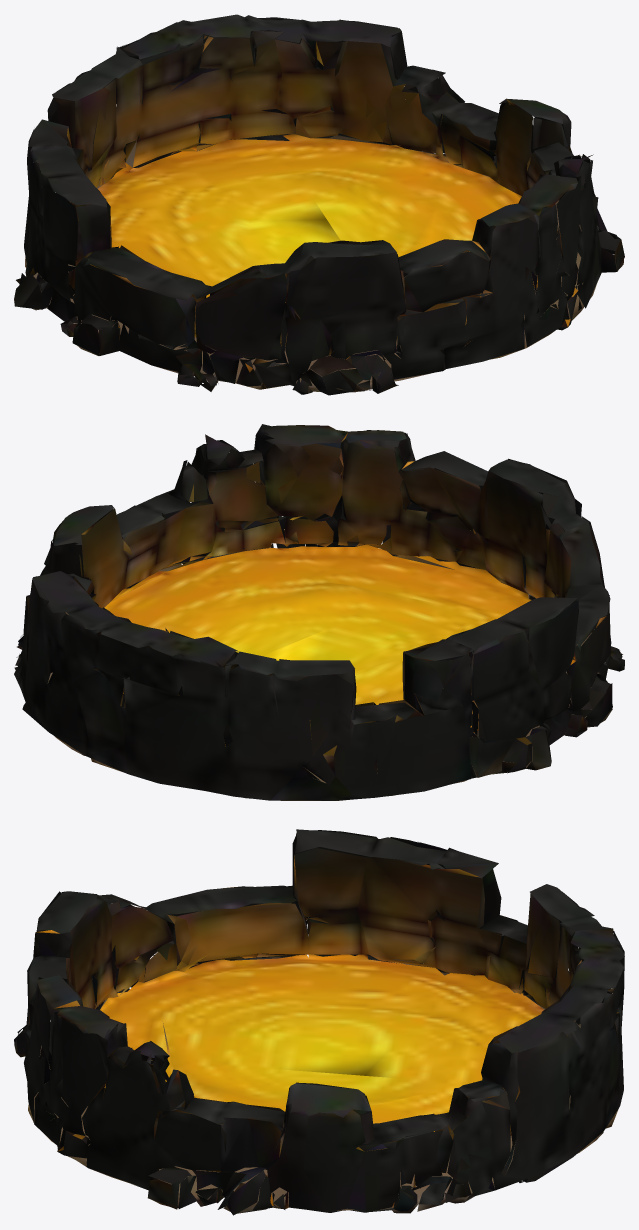
File: well.glb
3 renders of one model, top to bottom at view 1: azimuth 30°, elevation 25°; view 2: azimuth 150°, elevation 25°; view 3: azimuth 270°, elevation 25°, orthographic. The views are drawn at different scales.
Visible parts, largest first — view 1: Well; view 2: Well; view 3: Well.
Boxes of the visible parts, x1,y1,x2,y2 form: Well: [14, 14, 624, 395]; Well: [14, 424, 624, 800]; Well: [14, 829, 624, 1215].
Bounding box in the file's own units: 1.91 × 0.4893 × 1.89.
1 material, 1 textured.
